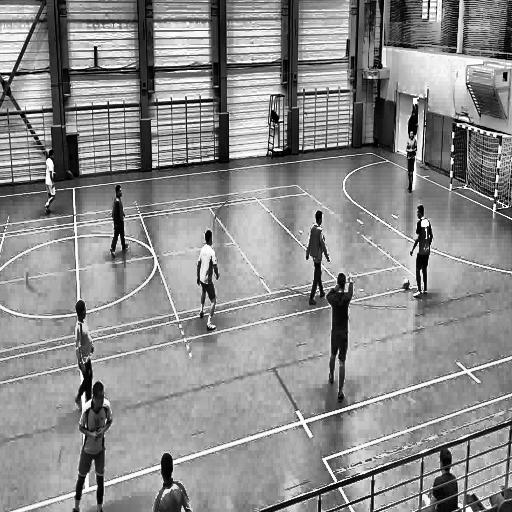ball: (402, 275, 411, 292)
player: (67, 381, 112, 512), (326, 271, 354, 406), (195, 227, 221, 334), (72, 297, 94, 415), (154, 451, 194, 512), (306, 208, 330, 308), (410, 202, 433, 300), (109, 182, 129, 260), (44, 146, 57, 216), (406, 131, 418, 194)
